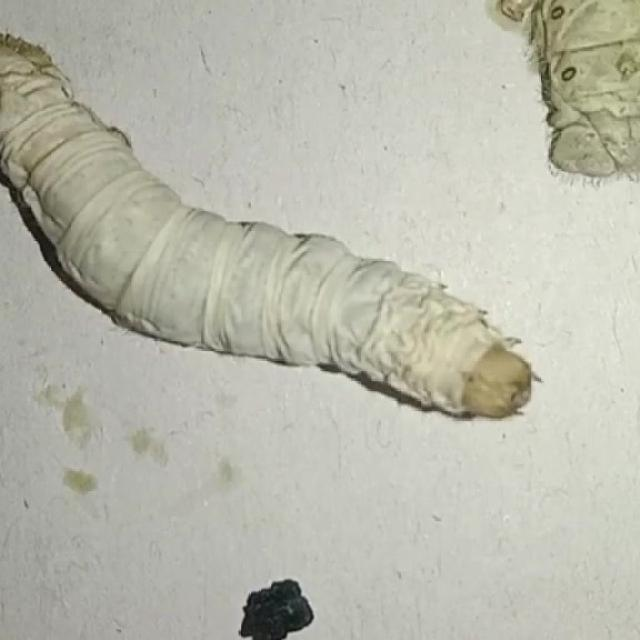Grasserie: (0, 18, 544, 433)
